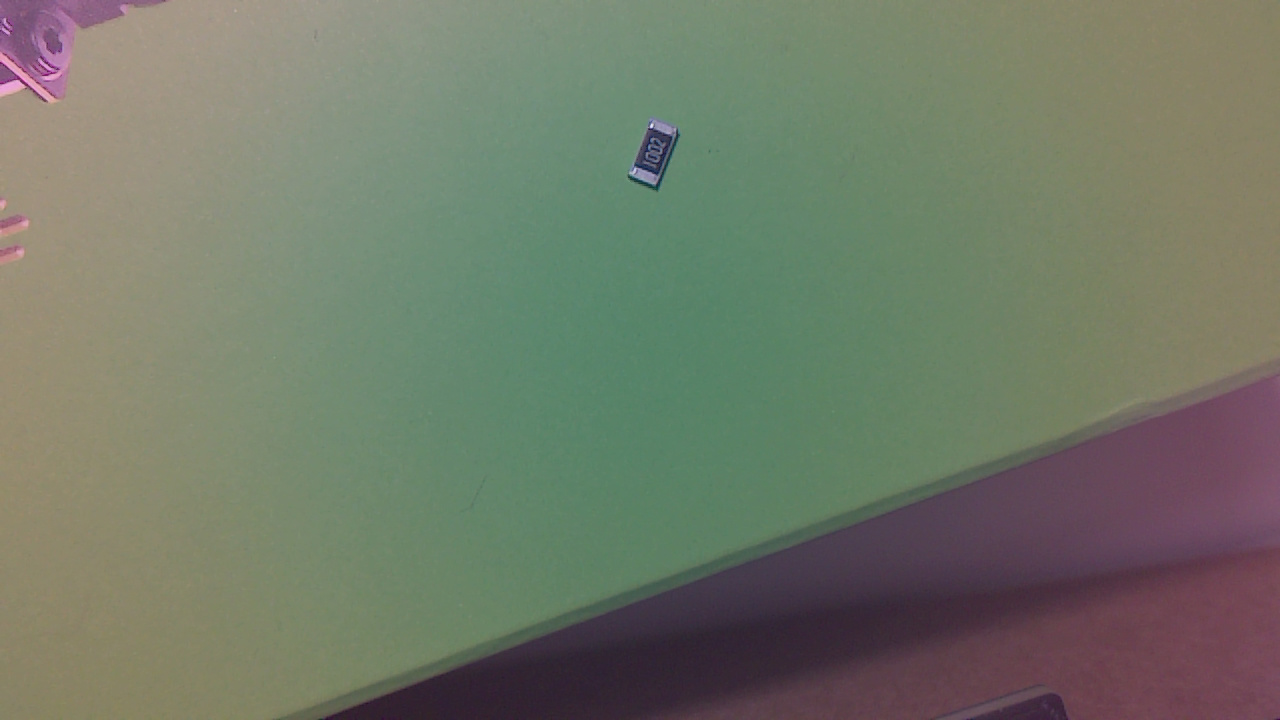Resistor: (630, 127, 686, 193)
